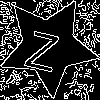Z: (24, 21, 63, 73)
